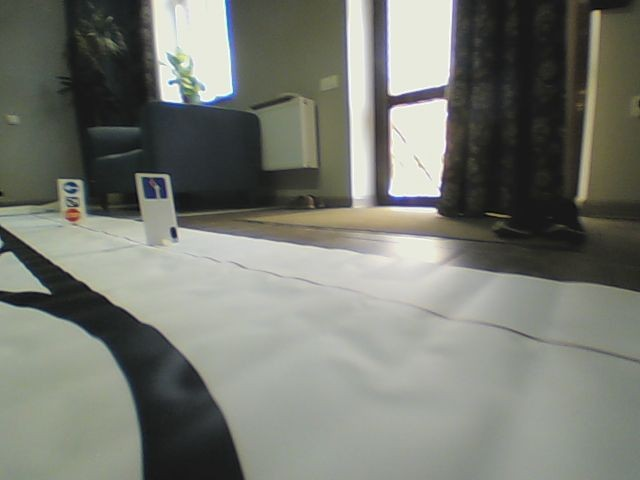priority_movement: (138, 175, 169, 200)
